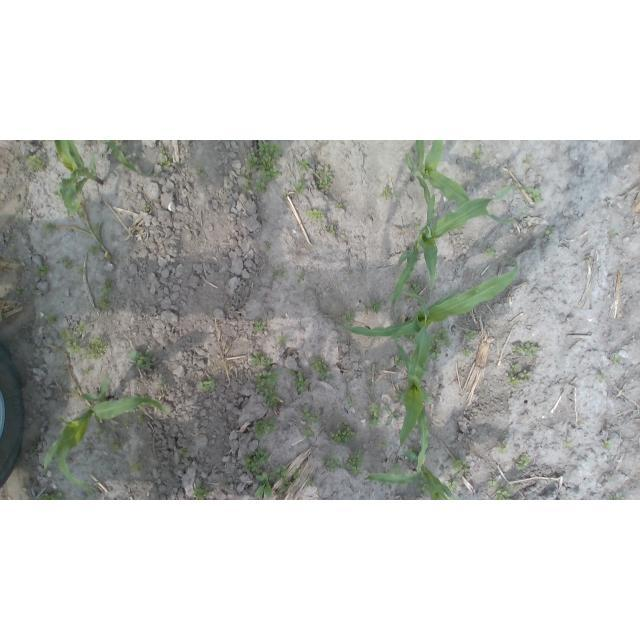Maize: (390, 184, 536, 327), (339, 259, 517, 341), (44, 376, 171, 488), (405, 141, 511, 228), (396, 289, 430, 472), (369, 452, 460, 500), (51, 141, 104, 218), (105, 141, 156, 180)
Weeds: (246, 141, 283, 183), (55, 327, 89, 358), (255, 371, 280, 408), (241, 448, 271, 475), (85, 333, 108, 360), (311, 356, 334, 380), (254, 420, 279, 441), (512, 341, 541, 359), (330, 425, 357, 444), (255, 472, 273, 499), (346, 451, 365, 476), (289, 370, 310, 392), (129, 349, 151, 370), (320, 451, 344, 470), (316, 166, 334, 191), (191, 482, 212, 500), (450, 454, 468, 474), (432, 328, 452, 346), (300, 408, 321, 425), (24, 154, 45, 171), (383, 404, 399, 426), (367, 403, 381, 427), (492, 484, 512, 500), (251, 351, 270, 367), (108, 438, 127, 454), (197, 377, 216, 392), (272, 463, 289, 479), (527, 188, 543, 205), (516, 453, 532, 470), (472, 147, 485, 165), (427, 346, 442, 361), (35, 263, 51, 277), (128, 460, 145, 473), (37, 492, 64, 500), (253, 179, 267, 194), (417, 479, 428, 498), (393, 388, 406, 404), (101, 279, 114, 295), (504, 374, 520, 387), (308, 208, 325, 220), (292, 179, 305, 194), (344, 308, 356, 324), (160, 155, 171, 172), (381, 188, 398, 199), (87, 244, 102, 256), (447, 479, 460, 492), (301, 424, 314, 437), (520, 368, 533, 381), (44, 223, 57, 236), (279, 479, 293, 491), (298, 159, 310, 173), (464, 328, 477, 340), (253, 320, 265, 333), (484, 245, 497, 257), (371, 300, 382, 314), (97, 296, 109, 308), (497, 443, 510, 454), (596, 372, 609, 383), (504, 255, 518, 265), (395, 352, 405, 365), (44, 314, 57, 324), (271, 268, 285, 277), (508, 363, 520, 373), (32, 440, 41, 453), (610, 492, 624, 500), (611, 354, 622, 364), (242, 182, 252, 193), (75, 323, 86, 333), (563, 440, 575, 449), (89, 223, 99, 233), (392, 462, 400, 474), (292, 466, 300, 478), (96, 424, 104, 436), (488, 479, 497, 489), (407, 334, 417, 343), (305, 476, 314, 486), (64, 259, 73, 269), (602, 440, 611, 450), (53, 187, 62, 197), (347, 396, 356, 405), (244, 172, 253, 181), (524, 154, 532, 164), (422, 364, 430, 373), (276, 336, 284, 345), (326, 224, 334, 233), (15, 288, 24, 296), (409, 448, 419, 455), (464, 348, 472, 356), (76, 268, 84, 276), (414, 220, 421, 229), (610, 229, 617, 238), (577, 418, 586, 425), (183, 448, 189, 458), (380, 443, 388, 450), (546, 228, 553, 236), (159, 380, 165, 389), (137, 415, 144, 422), (143, 204, 150, 211), (87, 488, 93, 496), (160, 147, 167, 153), (84, 369, 90, 376), (31, 285, 37, 292), (197, 167, 203, 173), (513, 486, 519, 491), (337, 204, 343, 209), (12, 156, 16, 160), (284, 192, 288, 196), (369, 382, 372, 386)
